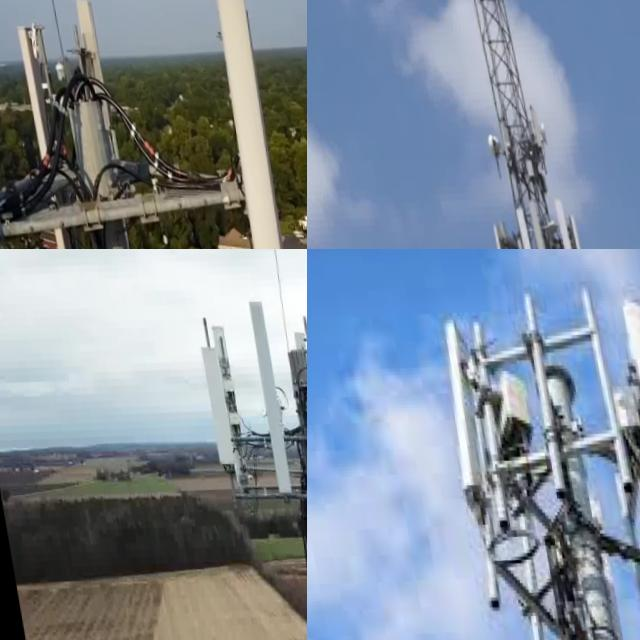GSM Antenna: (192, 0, 306, 249), (7, 10, 79, 249), (426, 310, 493, 493), (242, 293, 289, 486), (66, 0, 115, 137), (204, 313, 246, 443), (613, 278, 640, 474), (196, 339, 234, 466), (515, 175, 549, 249), (542, 182, 577, 249), (505, 189, 537, 249), (555, 189, 584, 249), (481, 203, 516, 249), (300, 325, 307, 433)
Microwave Antenna: (479, 123, 500, 156), (532, 114, 548, 144)
